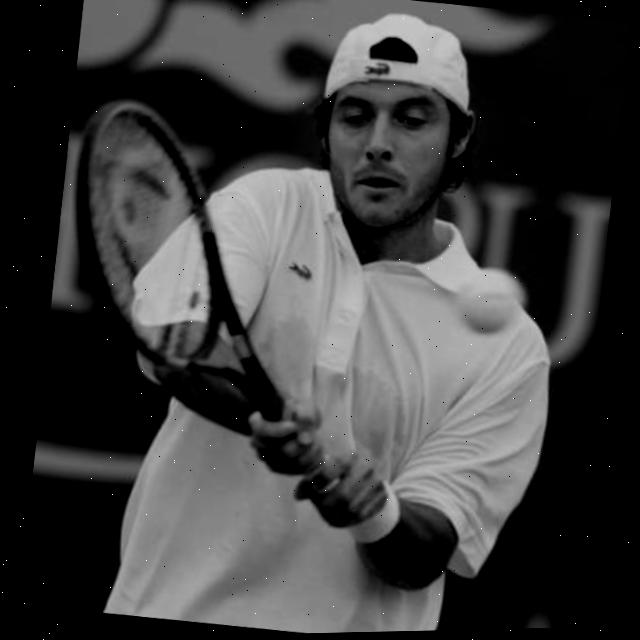face: (296, 65, 487, 244)
